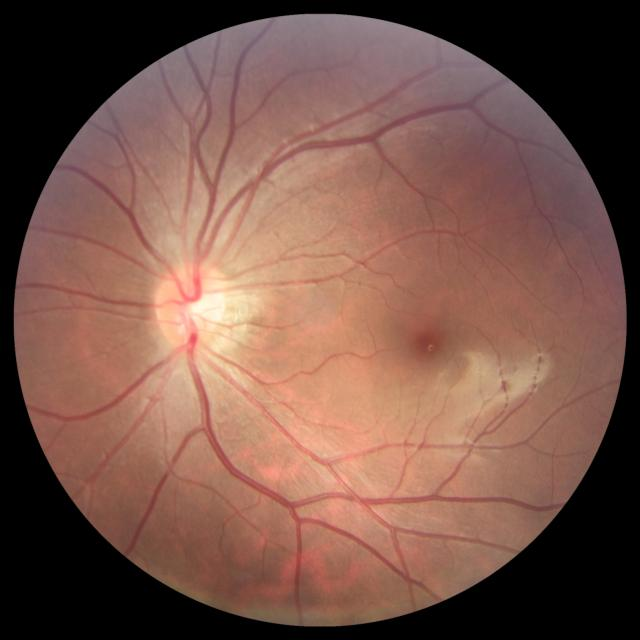OC: (183, 292, 215, 329)
OD: (155, 259, 229, 353)
